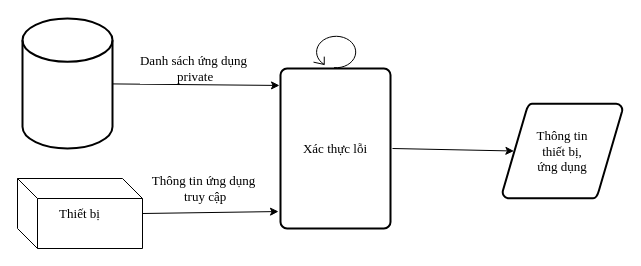
Some shapes in this 641 by 266 pixel diagram are drawn without their labels. Here are the shapes that lost their labels. From the top down, the centre of each, then its label:
[335,51]: n lần
[67,83]: CSDL ứng dụng private
